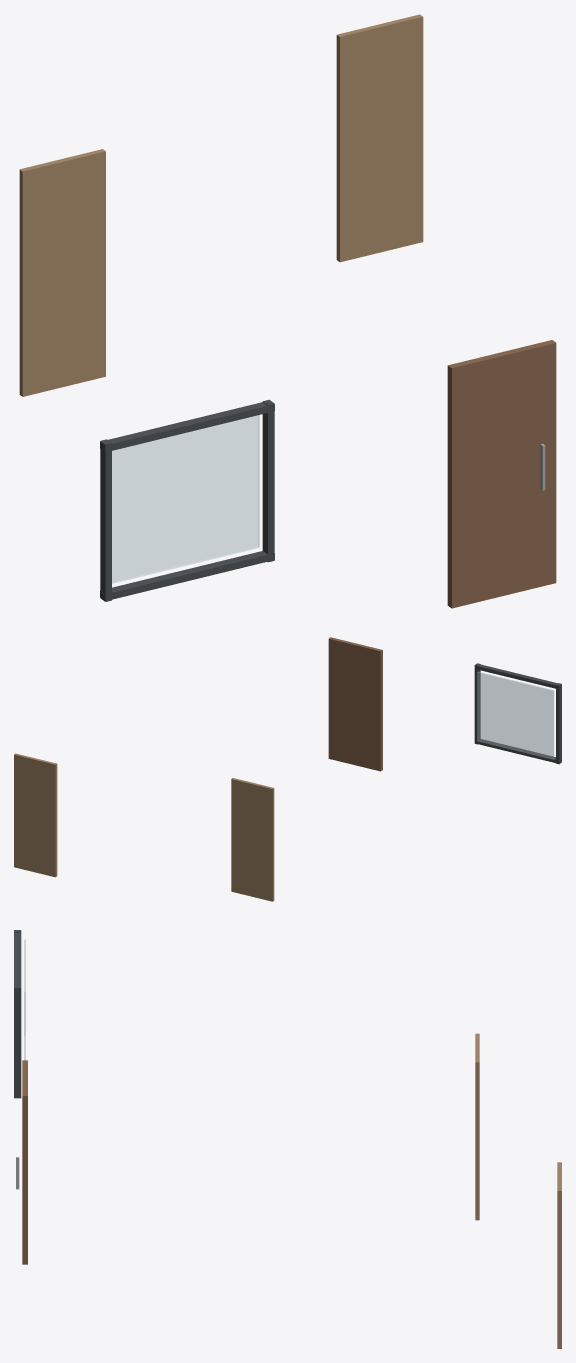
File: openings.glb
The picture shows the model from 3 angles, top to bottom: view 1: azimuth 30°, elevation 25°; view 2: azimuth 150°, elevation 25°; view 3: azimuth 270°, elevation 25°; orthographic projection. The views are drawn at different scales.
Visible parts, largest first — view 1: DOOR_Main_Walnut, DOOR_Bathroom, DOOR_Bedroom, WINDOW_Front_Glass, WINDOW_Front_Rail_2.35, WINDOW_Front_Rail_0.95, WINDOW_Front_Frame_-2.35, WINDOW_Front_Frame_-3.95; view 2: DOOR_Main_Walnut, WINDOW_Front_Glass, DOOR_Bedroom, DOOR_Bathroom, WINDOW_Front_Rail_2.35, WINDOW_Front_Rail_0.95, WINDOW_Front_Frame_-2.35, WINDOW_Front_Frame_-3.95; view 3: DOOR_Main_Walnut, DOOR_Bedroom, DOOR_Bathroom, WINDOW_Front_Frame_-2.35.
Part boxes in pixels (x1,y1,x2,y2): DOOR_Main_Walnut: (447,340,556,608); DOOR_Bathroom: (336,14,423,262); DOOR_Bedroom: (19,149,105,396); WINDOW_Front_Glass: (112,415,259,583); WINDOW_Front_Rail_2.35: (100,402,274,452); WINDOW_Front_Rail_0.95: (100,551,274,601); WINDOW_Front_Frame_-2.35: (262,399,274,562); WINDOW_Front_Frame_-3.95: (100,439,111,601); DOOR_Main_Walnut: (328,637,382,771); WINDOW_Front_Glass: (477,672,554,759); DOOR_Bedroom: (231,778,274,901); DOOR_Bathroom: (14,753,57,877); WINDOW_Front_Rail_2.35: (474,664,561,689); WINDOW_Front_Rail_0.95: (474,739,561,763); WINDOW_Front_Frame_-2.35: (474,663,480,744); WINDOW_Front_Frame_-3.95: (556,683,561,764); DOOR_Main_Walnut: (22,1060,27,1264); DOOR_Bedroom: (475,1033,479,1220); DOOR_Bathroom: (557,1162,561,1348); WINDOW_Front_Frame_-2.35: (14,985,21,1098).
Size of the model in its own units: 6.95 by 2.39 by 6.66.
